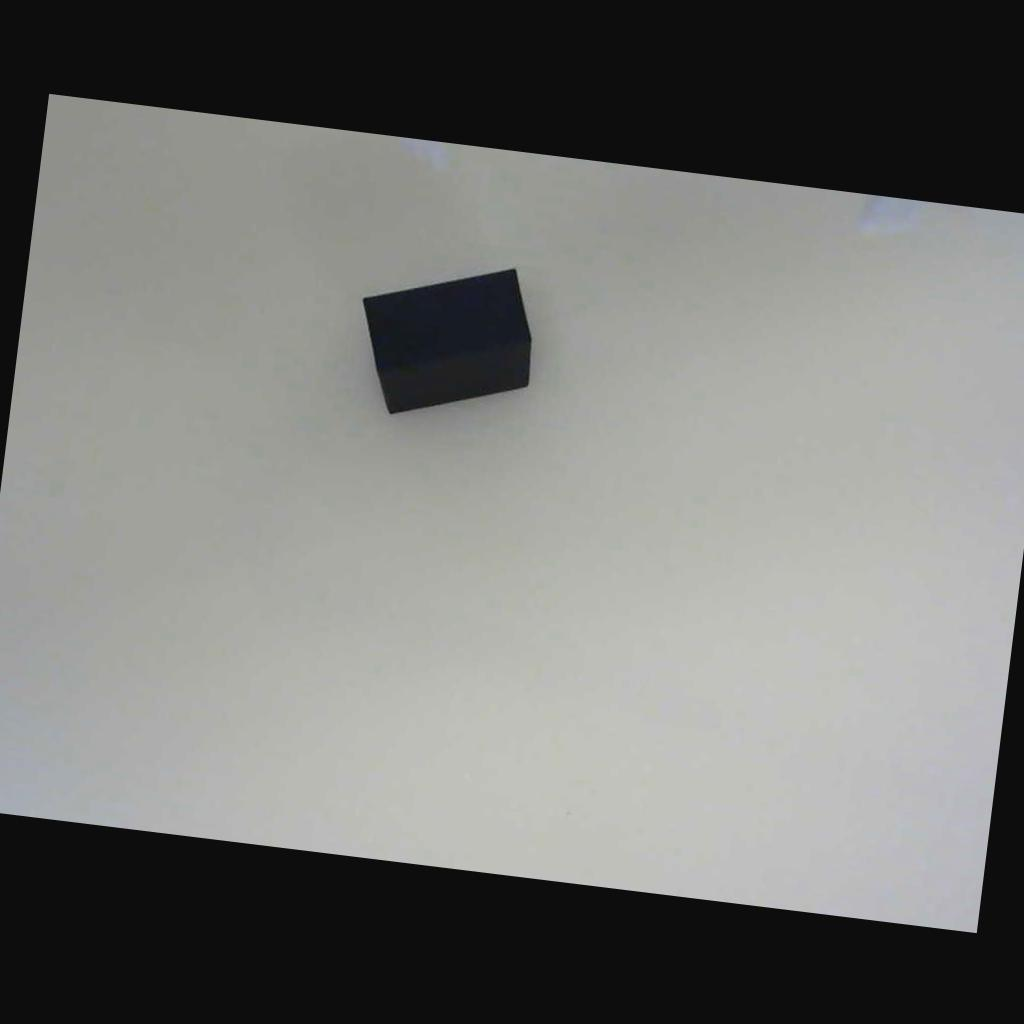rectangle: (345, 254, 555, 433)
